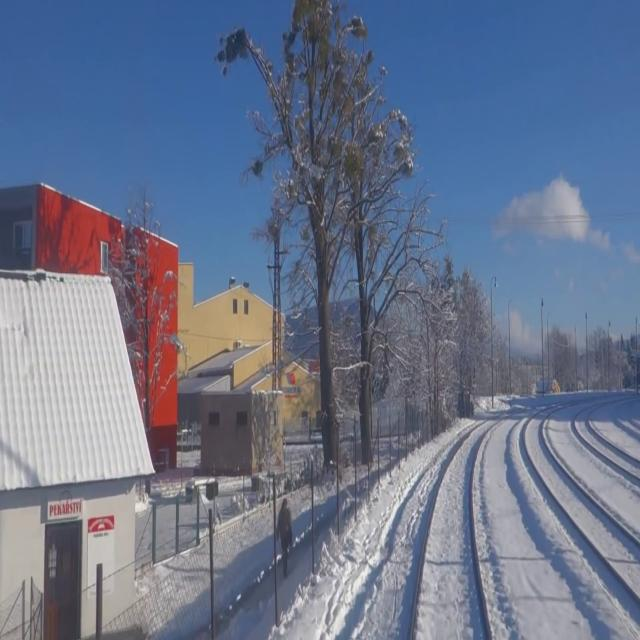rail-track: (526, 414, 640, 594), (413, 424, 489, 639), (577, 412, 640, 475), (617, 407, 639, 431)
